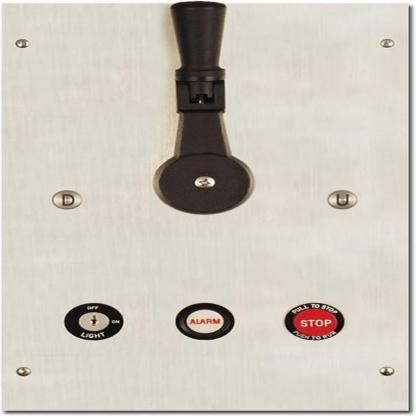D: (47, 186, 84, 210)
U: (322, 187, 360, 211)
keyhole: (58, 299, 125, 342)
text_alarm bell: (170, 299, 236, 341)
text_stop: (277, 299, 344, 342)
